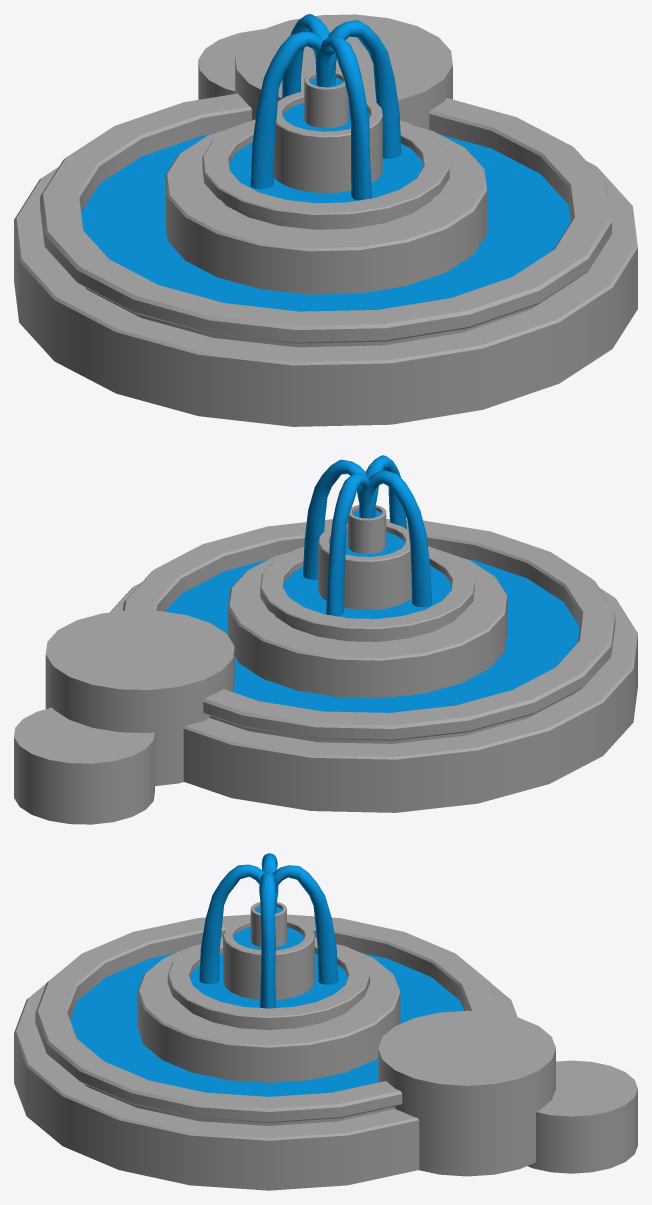
The model's file is Fountain02 1.fbx.
3 renders of one model, top to bottom at view 1: azimuth 30°, elevation 25°; view 2: azimuth 150°, elevation 25°; view 3: azimuth 270°, elevation 25°, orthographic. The views are drawn at different scales.
Visible parts, largest first — view 1: polySurface8, polySurface6, pCylinder1, polySurface7, polySurface2, polySurface3, polySurface4, pCylinder2, polySurface1, polySurface5; view 2: polySurface8, polySurface6, pCylinder1, pCylinder2, polySurface7, polySurface3, polySurface5, polySurface4, polySurface1, polySurface2; view 3: polySurface8, polySurface6, pCylinder1, pCylinder2, polySurface7, polySurface5, polySurface2, polySurface4, polySurface1.
Boxes of the visible parts, box(x1,y1,x2,y2) form: polySurface8: box(14, 93, 637, 426); polySurface6: box(165, 119, 486, 294); pCylinder1: box(235, 14, 452, 129); polySurface7: box(273, 91, 382, 192); polySurface2: box(315, 35, 371, 200); polySurface3: box(250, 31, 327, 188); polySurface4: box(318, 20, 401, 158); pCylinder2: box(198, 29, 263, 99); polySurface1: box(304, 71, 348, 128); polySurface5: box(282, 14, 335, 98); polySurface8: box(110, 519, 637, 812); polySurface6: box(227, 546, 507, 698); pCylinder1: box(45, 610, 234, 785); pCylinder2: box(14, 707, 154, 824); polySurface7: box(318, 522, 411, 610); polySurface3: box(359, 470, 431, 607); polySurface5: box(326, 473, 372, 616); polySurface4: box(303, 459, 375, 579); polySurface1: box(347, 504, 386, 553); polySurface2: box(363, 455, 406, 529); polySurface8: box(14, 914, 517, 1190); polySurface6: box(137, 937, 400, 1082); pCylinder1: box(378, 1010, 555, 1176); pCylinder2: box(527, 1060, 637, 1173); polySurface7: box(223, 918, 314, 999); polySurface5: box(273, 865, 338, 984); polySurface2: box(199, 864, 264, 983); polySurface4: box(259, 872, 276, 1008); polySurface1: box(250, 902, 286, 947).
Size of the model in its own units: 21.92 by 10.66 by 26.83.
